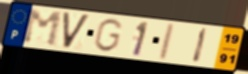1: (132, 20, 151, 58)
G: (92, 17, 125, 54)
I: (156, 22, 177, 63), (190, 26, 210, 65)
M: (22, 8, 64, 48)
V: (61, 11, 93, 51)
